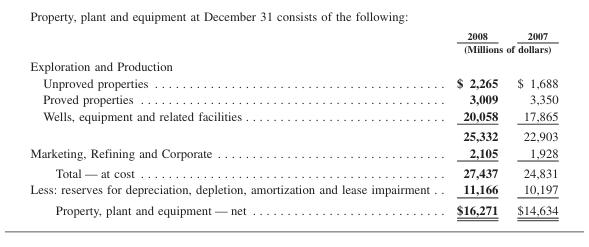table: (29, 29, 557, 216)
table column: (29, 29, 442, 216), (442, 29, 506, 216), (506, 29, 557, 216)
table column header: (29, 29, 557, 56)
table projected row header: (29, 56, 557, 73)
table row: (29, 106, 557, 125), (29, 143, 557, 162), (29, 180, 557, 199), (29, 125, 557, 143), (29, 162, 557, 180), (29, 56, 557, 73), (29, 73, 557, 90), (29, 199, 557, 216), (29, 90, 557, 106), (29, 41, 557, 56), (29, 29, 557, 41)
table spanning cell: (442, 41, 557, 56)
